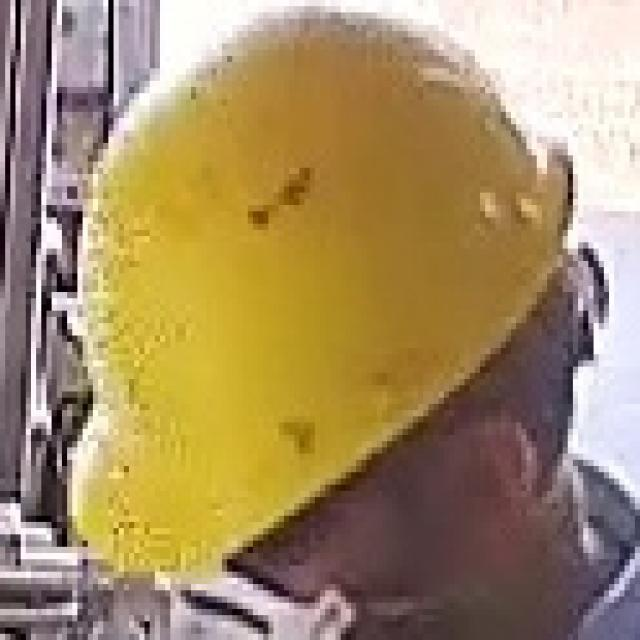yellow helmet: (69, 10, 579, 580)
